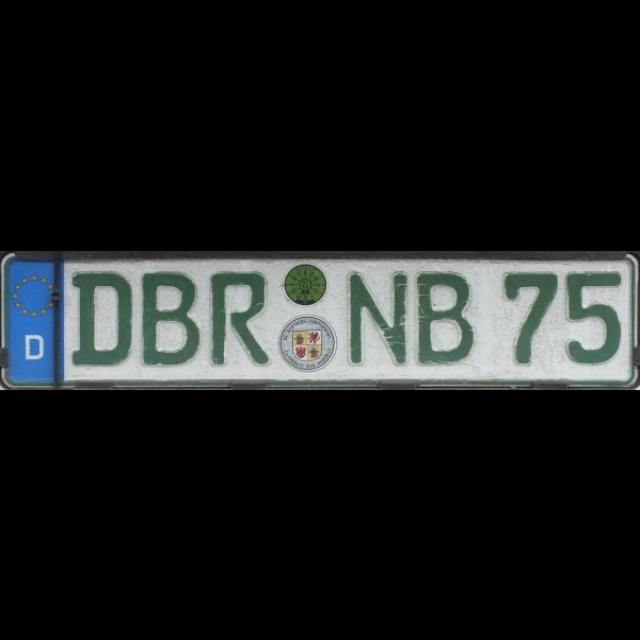license-plates: (1, 253, 640, 389)
